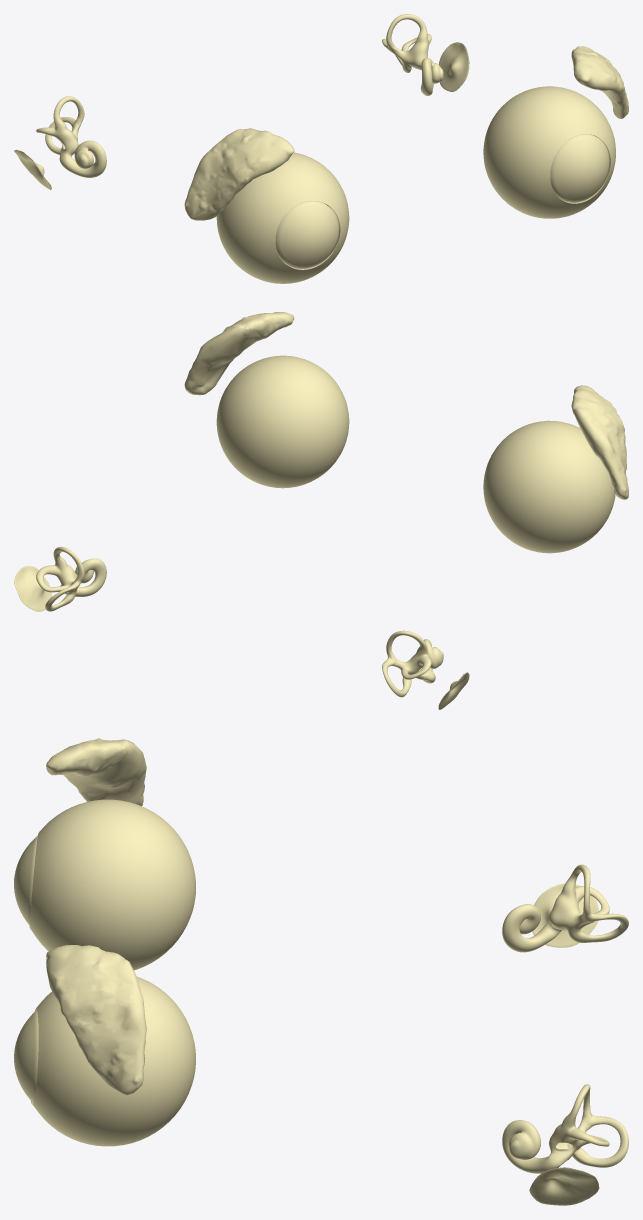
File: senses.glb
The picture shows the model from 3 angles, top to bottom: view 1: azimuth 30°, elevation 25°; view 2: azimuth 150°, elevation 25°; view 3: azimuth 270°, elevation 25°; orthographic projection. The views are drawn at different scales.
Visible parts, largest first — view 1: Sclera.l.001, Sclera.r.001, Lacrimal gland.r.001, Cornea.r.001, Cornea.l.001, Lacrimal gland.l.001, Vestibule.r.001, Vestibule.l.001, Cochlea.r.001, Tympanic membrane.l.001, Cochlea.l.001, Tympanic membrane.r.001; view 2: Sclera.l.001, Sclera.r.001, Lacrimal gland.l.001, Lacrimal gland.r.001, Vestibule.l.001, Vestibule.r.001, Tympanic membrane.l.001, Cochlea.l.001; view 3: Sclera.r.001, Sclera.l.001, Lacrimal gland.l.001, Lacrimal gland.r.001, Vestibule.r.001, Vestibule.l.001, Tympanic membrane.l.001, Cochlea.l.001, Cochlea.r.001, Cornea.l.001, Tympanic membrane.r.001, Cornea.r.001.
Boxes of the visible parts, <box> form: Sclera.l.001: <box>483,86,615,218</box>; Sclera.r.001: <box>216,152,349,283</box>; Lacrimal gland.r.001: <box>184,128,294,220</box>; Cornea.r.001: <box>275,201,339,268</box>; Cornea.l.001: <box>550,134,609,202</box>; Lacrimal gland.l.001: <box>571,46,628,118</box>; Vestibule.r.001: <box>36,96,84,155</box>; Vestibule.l.001: <box>382,14,431,72</box>; Cochlea.r.001: <box>59,140,106,177</box>; Tympanic membrane.l.001: <box>439,42,469,91</box>; Cochlea.l.001: <box>420,58,443,95</box>; Tympanic membrane.r.001: <box>14,149,51,189</box>; Sclera.l.001: <box>216,355,349,488</box>; Sclera.r.001: <box>483,420,615,553</box>; Lacrimal gland.l.001: <box>184,312,294,395</box>; Lacrimal gland.r.001: <box>571,385,628,499</box>; Vestibule.l.001: <box>36,546,84,611</box>; Vestibule.r.001: <box>382,630,431,697</box>; Tympanic membrane.l.001: <box>14,565,51,611</box>; Cochlea.l.001: <box>60,558,106,596</box>; Sclera.r.001: <box>29,799,195,970</box>; Sclera.l.001: <box>31,976,195,1146</box>; Lacrimal gland.l.001: <box>46,945,146,1095</box>; Lacrimal gland.r.001: <box>46,738,146,806</box>; Vestibule.r.001: <box>549,864,628,942</box>; Vestibule.l.001: <box>549,1084,628,1167</box>; Tympanic membrane.l.001: <box>529,1167,599,1205</box>; Cochlea.l.001: <box>502,1120,567,1173</box>; Cochlea.r.001: <box>502,904,561,952</box>; Cornea.l.001: <box>14,1010,38,1102</box>; Tympanic membrane.r.001: <box>532,883,598,947</box>; Cornea.r.001: <box>14,835,37,925</box>.
Size of the model in its own units: 0.1012 by 0.0383 by 0.0923.
